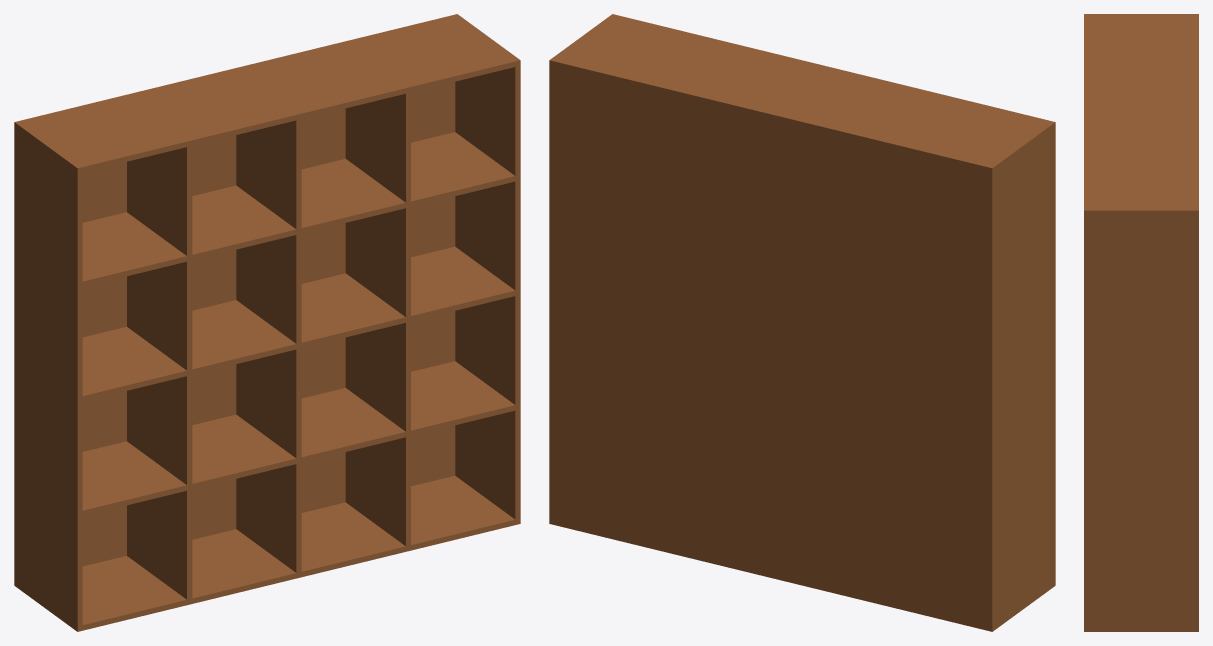
The model's file is organizer-by-cmht-oculus-8fLbhzq-D8j.glb.
3 views of the same model, side by side, from view 1: azimuth 30°, elevation 25°; view 2: azimuth 150°, elevation 25°; view 3: azimuth 270°, elevation 25° (orthographic). The views are drawn at different scales.
Visible parts, largest first — view 1: Node; view 2: Node; view 3: Node.
Part boxes in pixels (box(x1,y1,x2,y2)): Node: box(14, 14, 520, 631); Node: box(549, 14, 1055, 631); Node: box(1084, 14, 1198, 631).
Bounding box in the file's own units: 42.5 × 42.5 × 10.5.
